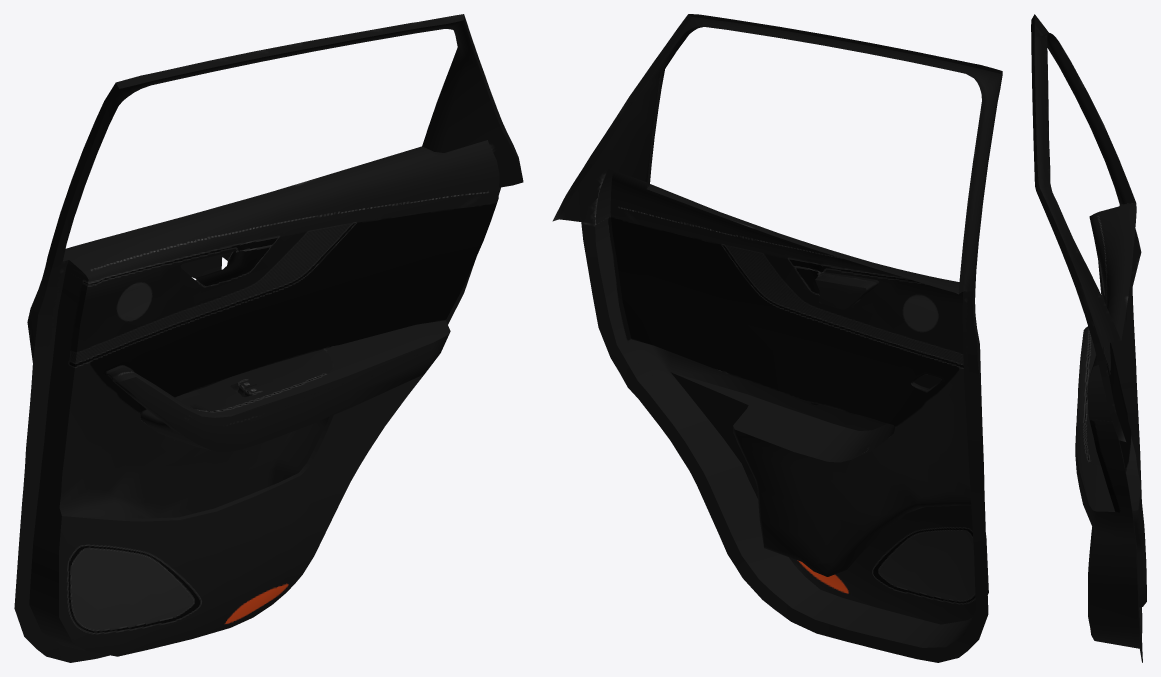
File: SM_Car_MenRb.FBX
3 renders of one model, left to right at view 1: azimuth 30°, elevation 25°; view 2: azimuth 150°, elevation 25°; view 3: azimuth 270°, elevation 25°, orthographic. The views are drawn at different scales.
Visible parts, largest first — view 1: youmen; view 2: youmen; view 3: youmen.
Boxes of the visible parts, box(x1,y1,x2,y2) form: youmen: box(14, 14, 523, 662); youmen: box(552, 14, 1002, 662); youmen: box(1031, 14, 1146, 662).
Size of the model in its own units: 94.46 by 114 by 20.69.
